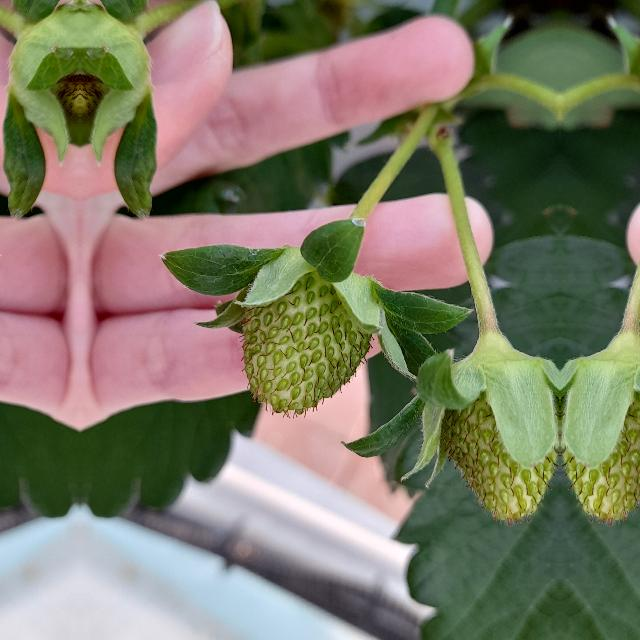Health_25: (236, 252, 380, 418), (445, 362, 559, 522), (561, 362, 640, 522)
